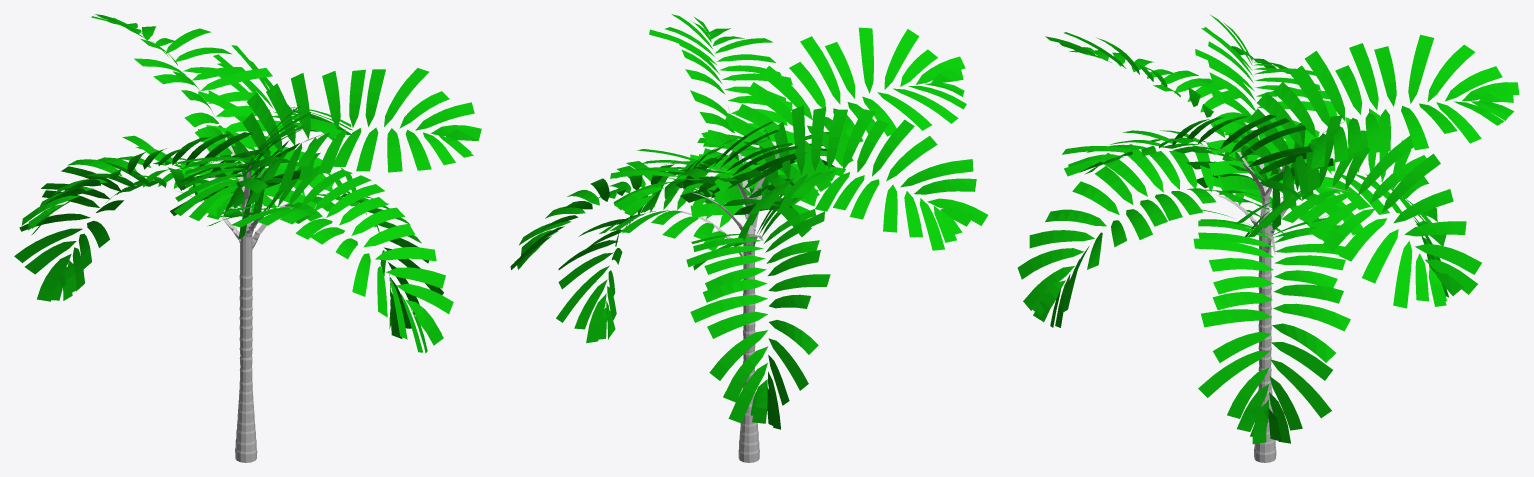
The model's file is Palme.obj.
3 renders of one model, left to right at view 1: azimuth 30°, elevation 25°; view 2: azimuth 150°, elevation 25°; view 3: azimuth 270°, elevation 25°, orthographic. The views are drawn at different scales.
Parts seen in each view (by area): view 1: LEAF01, TRUNK01, STEM01, TRUNK02; view 2: LEAF01, TRUNK01, STEM01; view 3: LEAF01, TRUNK01, STEM01, TRUNK02.
Part boxes in pixels (box(x1,y1,x2,y2)): LEAF01: box(14, 14, 481, 353); TRUNK01: box(235, 252, 257, 462); STEM01: box(176, 96, 326, 251); TRUNK02: box(235, 274, 256, 454); LEAF01: box(510, 14, 988, 429); TRUNK01: box(738, 262, 759, 462); STEM01: box(677, 104, 810, 256); LEAF01: box(1017, 14, 1519, 444); TRUNK01: box(1254, 250, 1276, 462); STEM01: box(1208, 119, 1349, 254); TRUNK02: box(1254, 272, 1276, 455).
Size of the model in its own units: 4.87 by 4.62 by 5.24.
